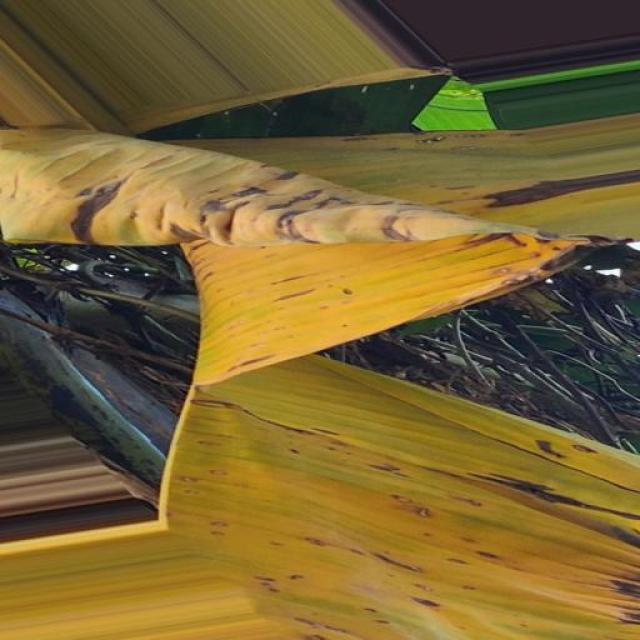Cordana: (0, 105, 640, 640)
